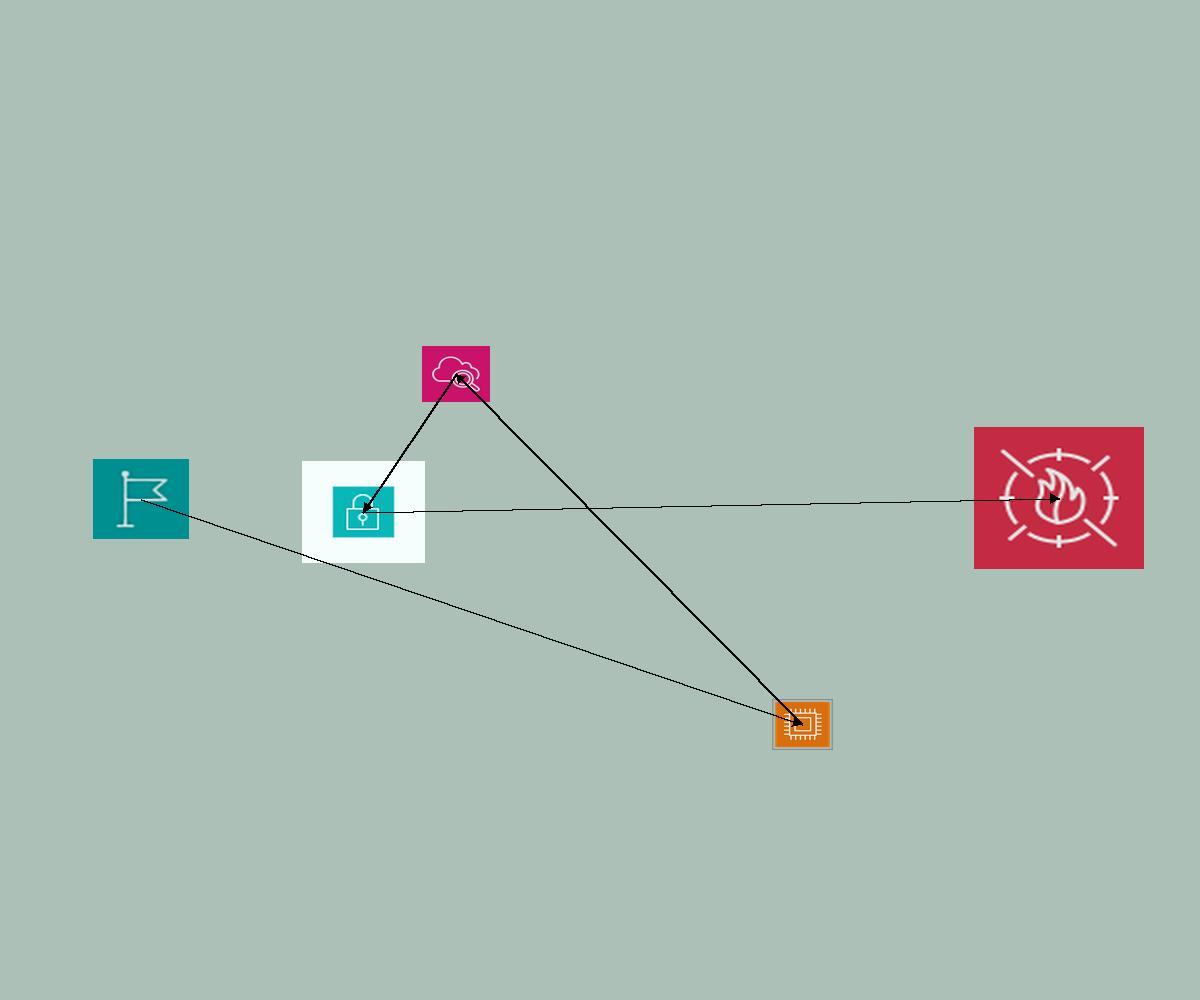AWS-Category_Compute: (772, 699, 833, 750)
AWS-CloudWatch: (422, 346, 490, 402)
AWS-Private-subnet: (302, 461, 425, 563)
AWS-Region: (93, 459, 189, 539)
AWS-WAF: (974, 427, 1144, 569)
